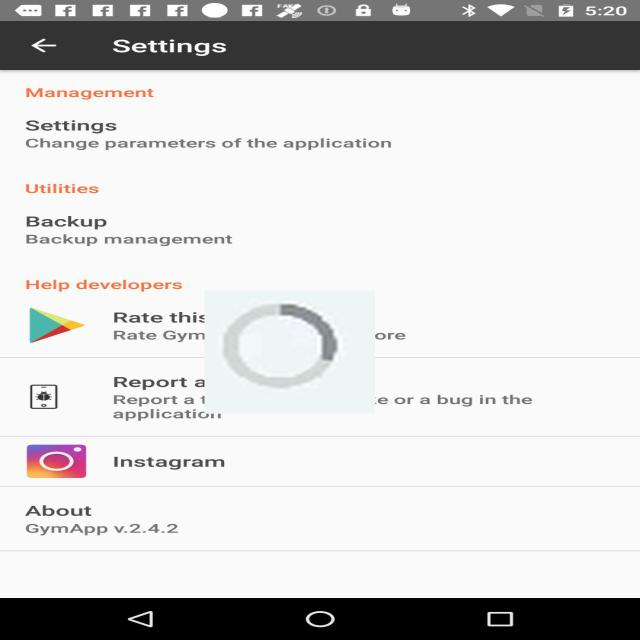misdirection: (205, 290, 375, 414)
